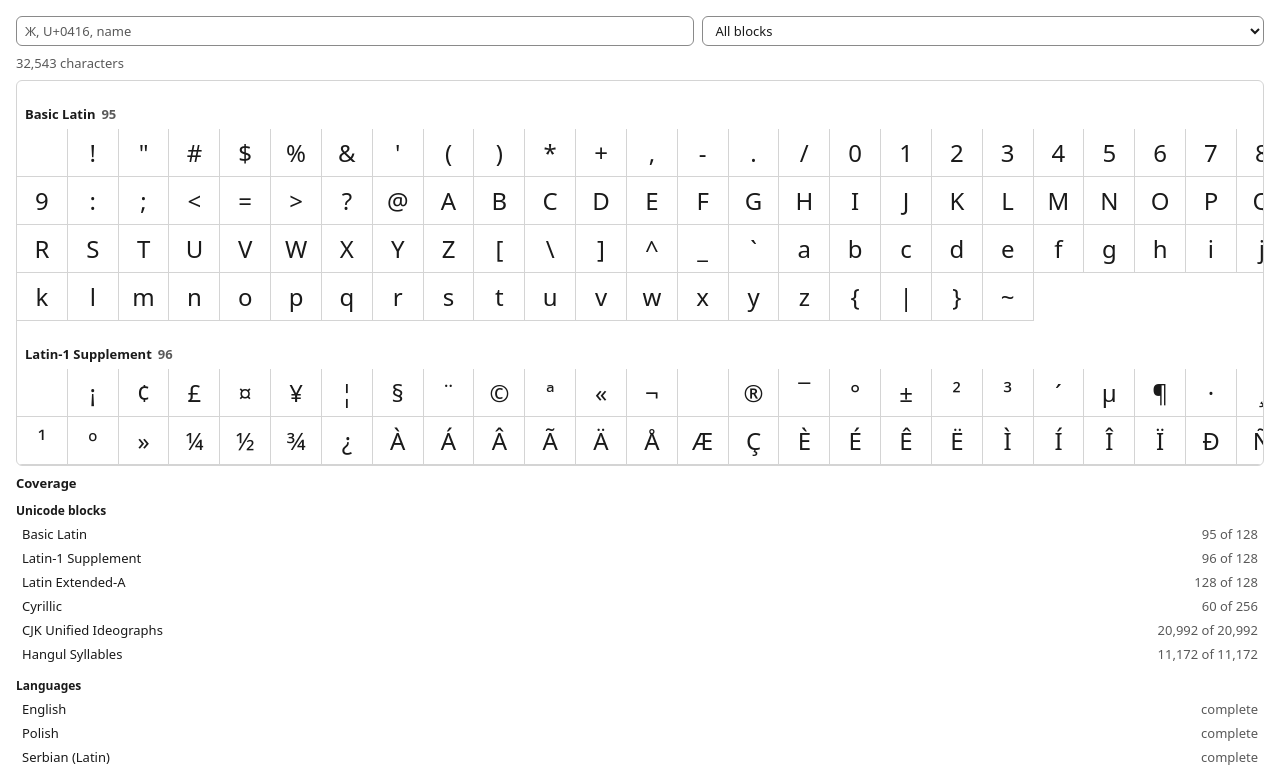
Test: inspector glyphs tab › the detail shows code point, name, advance width and features
The width and height of the screenshot is (1280, 771).
Click the cell "a" at (805, 249), box [779,225,830,273]
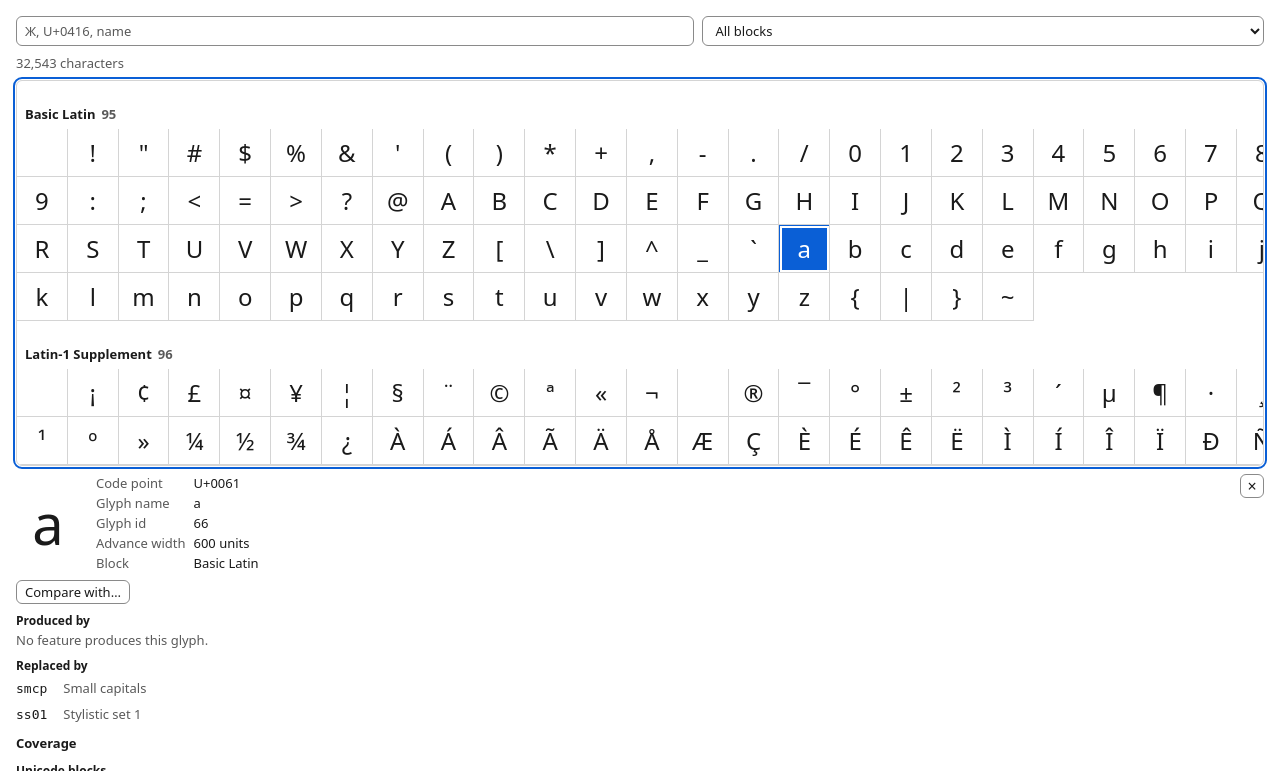
Expected: the text "U+0061" is shown, [194,474,240,492]
Expected: the text "a" next to "Glyph name" is shown, [194,494,201,512]
Expected: the text "600 units" is shown, [194,534,250,552]
